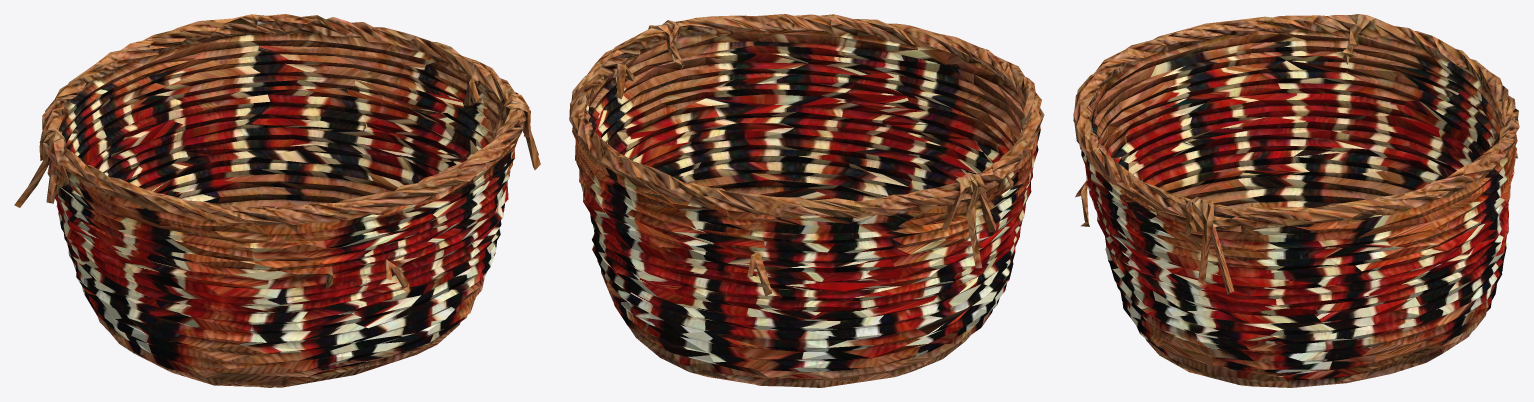
File: basket.glb
3 views of the same model, side by side, from view 1: azimuth 30°, elevation 25°; view 2: azimuth 150°, elevation 25°; view 3: azimuth 270°, elevation 25° (orthographic).
Visible parts, largest first — view 1: BASKET 1; view 2: BASKET 1; view 3: BASKET 1.
Part boxes in pixels (x1,y1,x2,y2): BASKET 1: (14, 14, 540, 387); BASKET 1: (569, 14, 1044, 387); BASKET 1: (1073, 14, 1519, 387).
Bounding box in the file's own units: 0.9626 × 0.4458 × 0.8431.
1 material, 1 textured.
